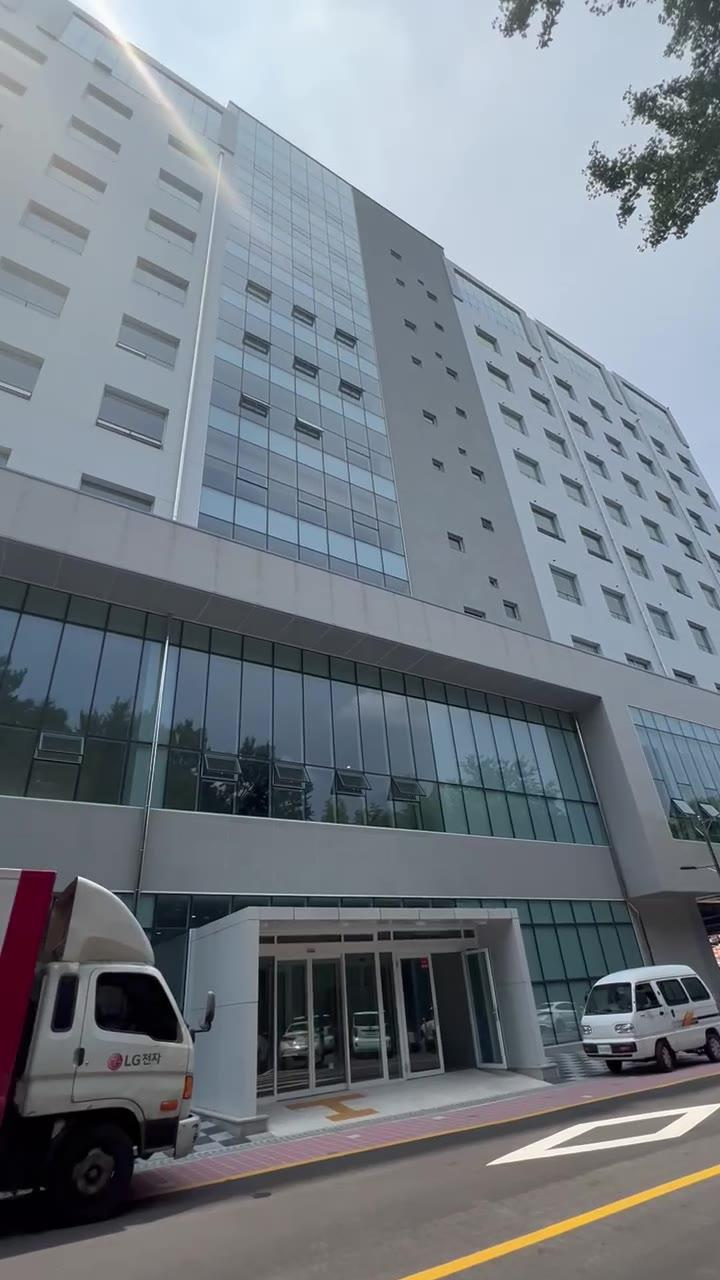building: (0, 80, 668, 872)
